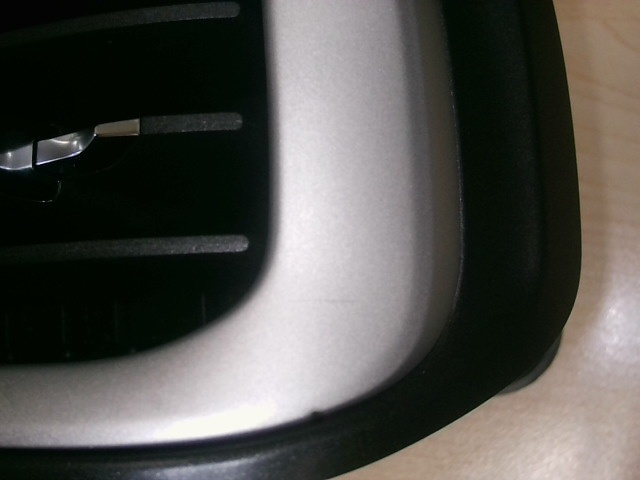NG: (302, 286, 371, 329)
